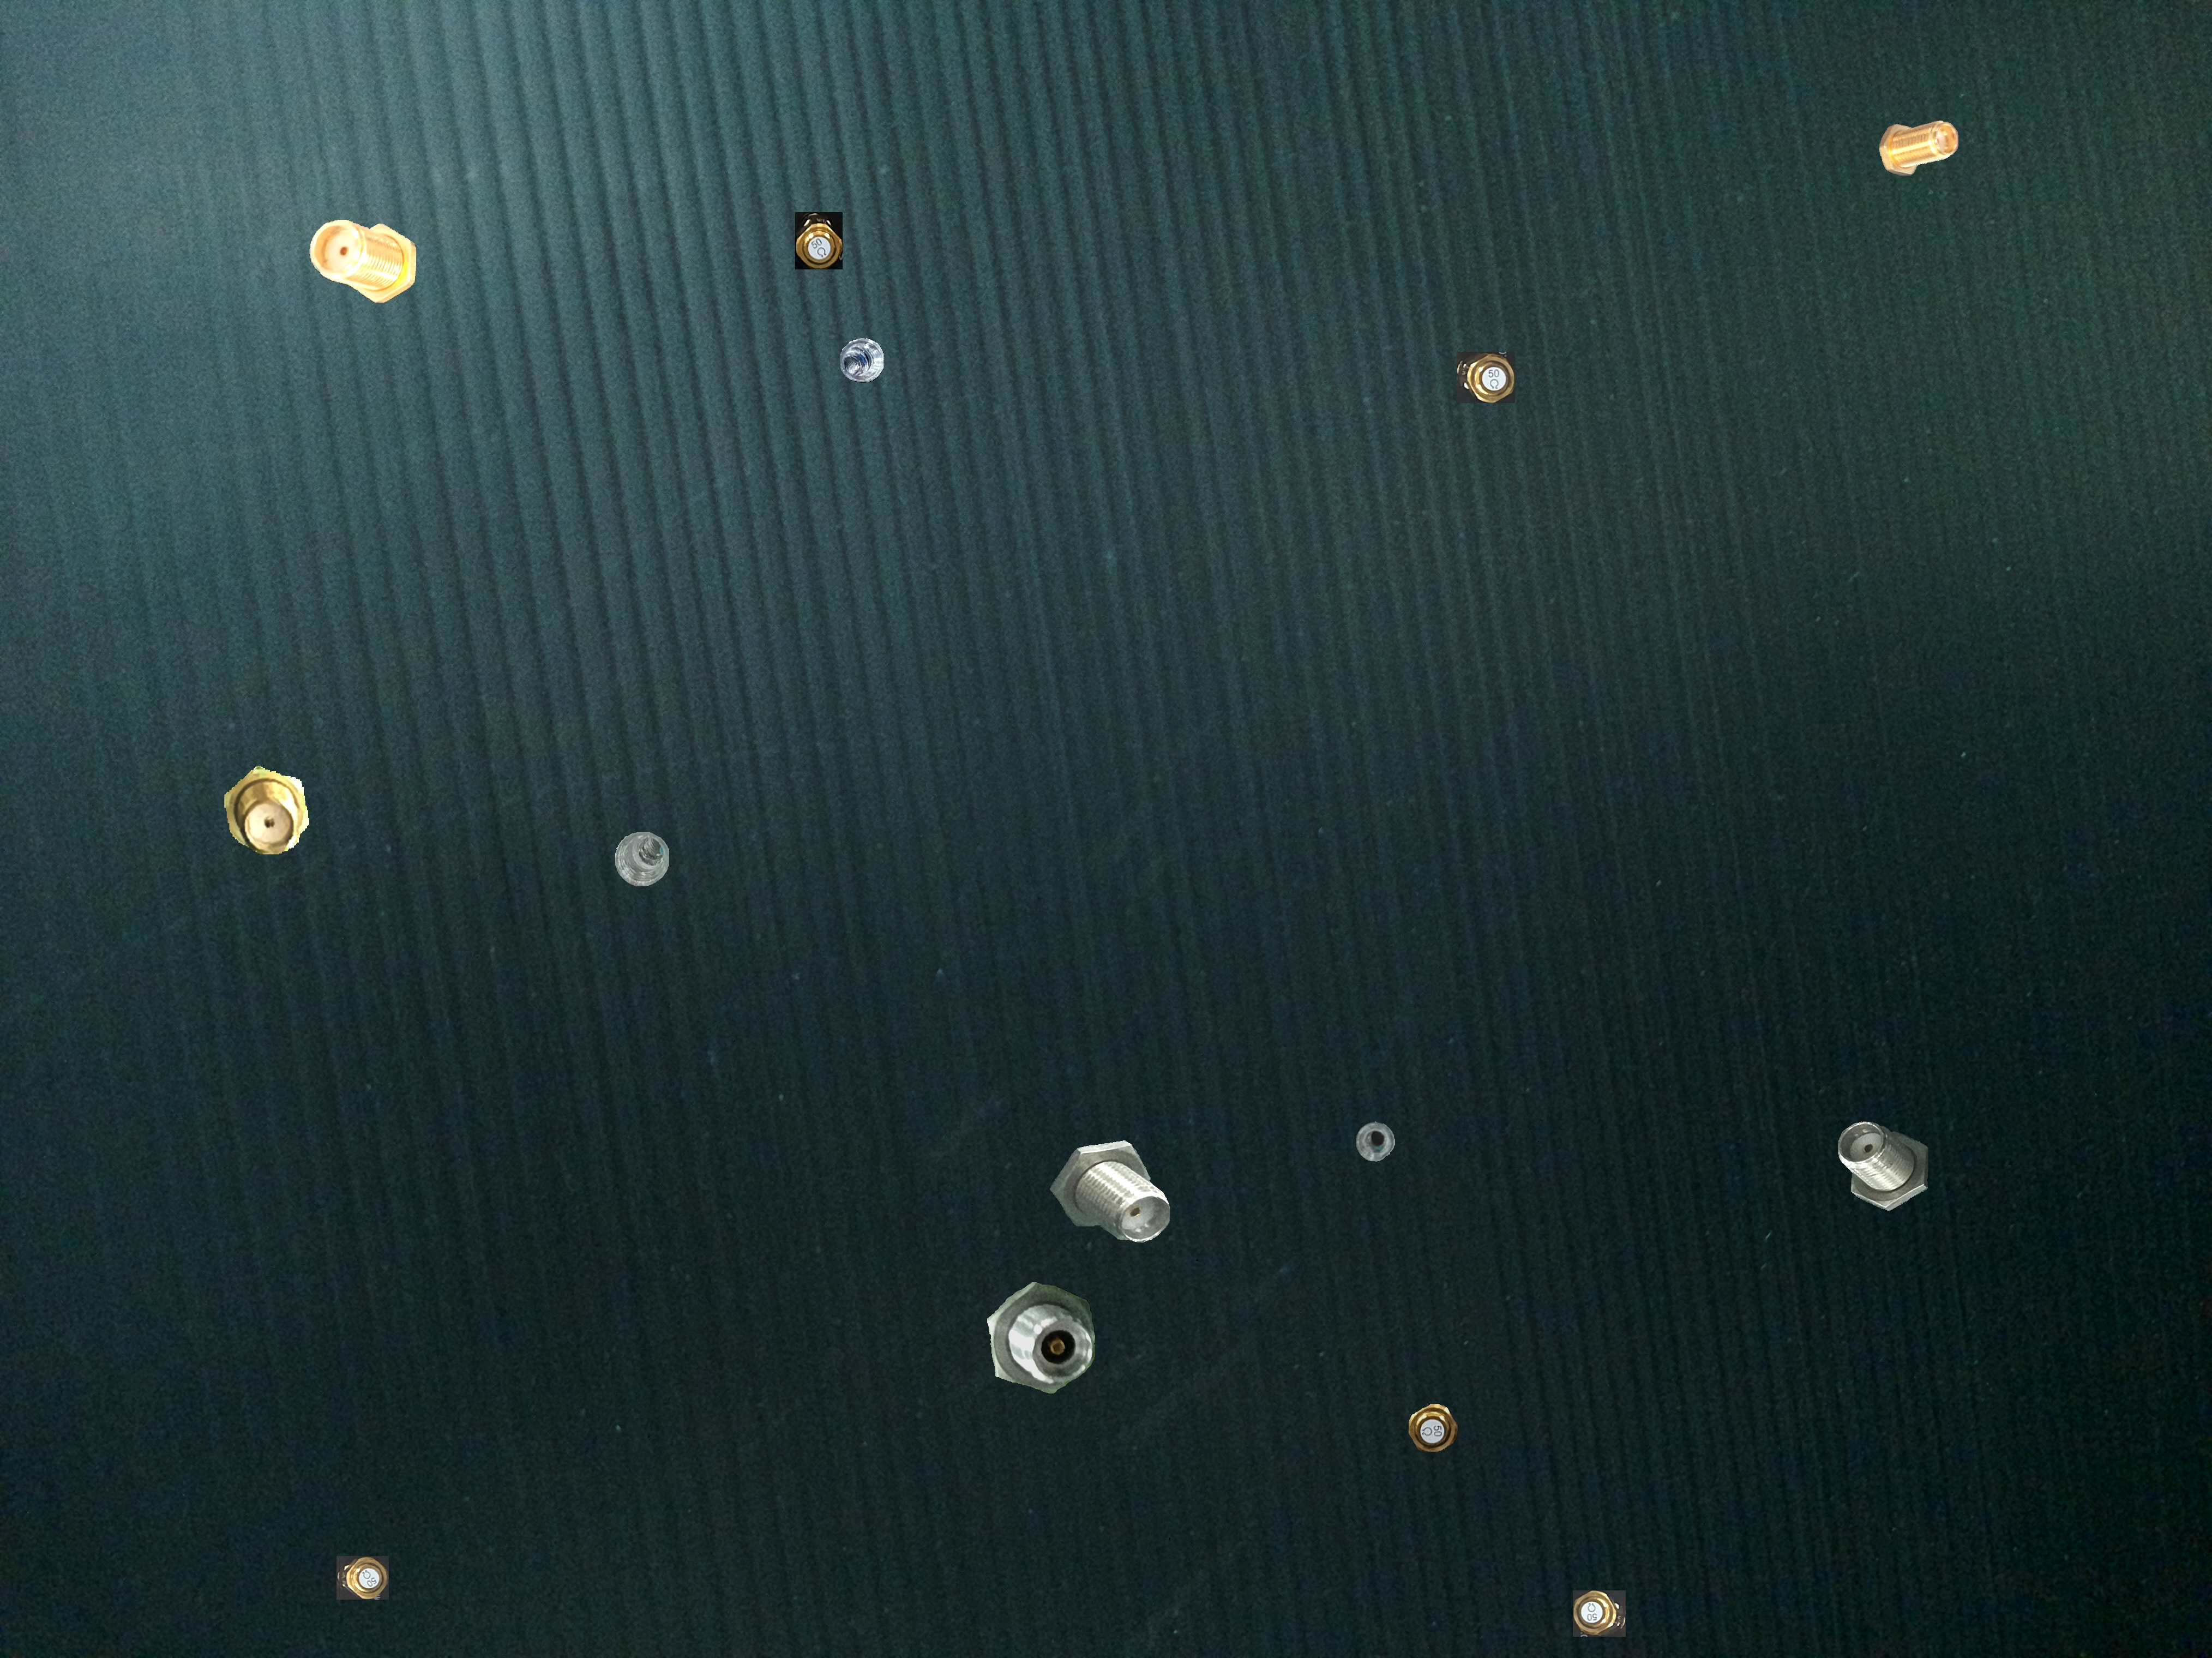Cgoldcap: (1457, 352, 1514, 403), (795, 212, 842, 269), (1573, 1590, 1625, 1636), (1409, 1404, 1457, 1451), (336, 1556, 388, 1599)
Cpin_wNut: (1050, 1140, 1170, 1242), (987, 1282, 1095, 1393), (309, 220, 416, 303), (1838, 1121, 1928, 1210), (224, 766, 309, 854), (1879, 121, 1958, 175)
